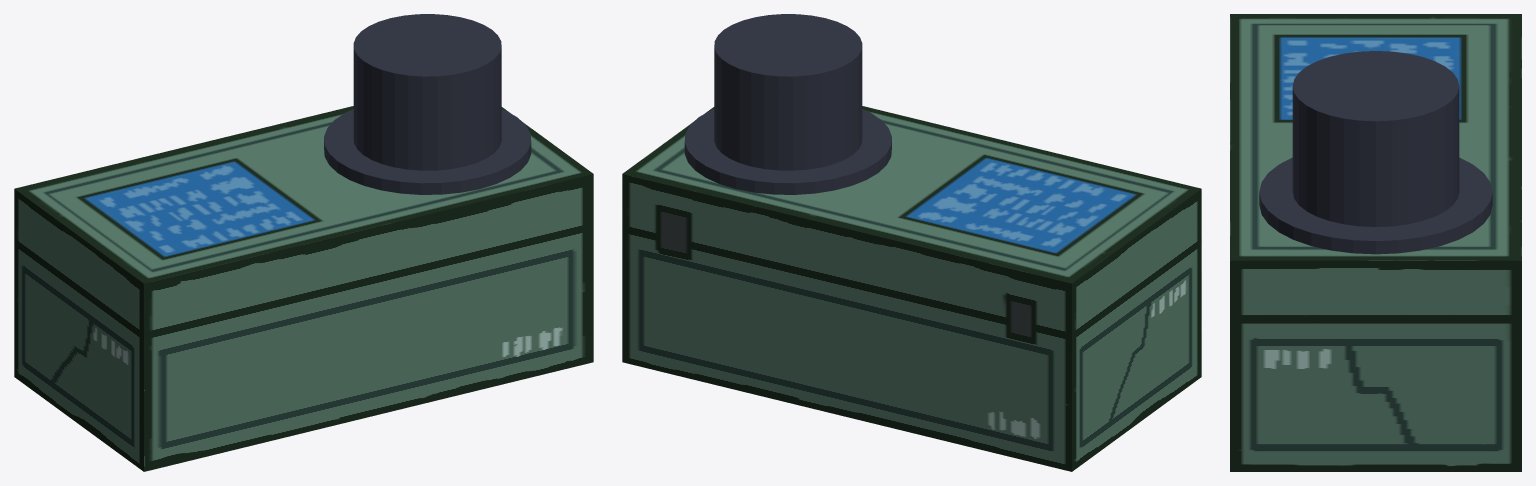
File: skin-cube.glb
3 views of the same model, side by side, from view 1: azimuth 30°, elevation 25°; view 2: azimuth 150°, elevation 25°; view 3: azimuth 270°, elevation 25° (orthographic). The views are drawn at different scales.
Visible parts, largest first — view 1: Cylinder.001; view 2: Cylinder.001; view 3: Cylinder.001.
Boxes of the visible parts, <box> form: Cylinder.001: <box>14,14,593,471</box>; Cylinder.001: <box>622,14,1201,471</box>; Cylinder.001: <box>1230,14,1521,471</box>.
Size of the model in its own units: 4 by 2.5 by 2.
Materials: 1 (1 with a texture image).
